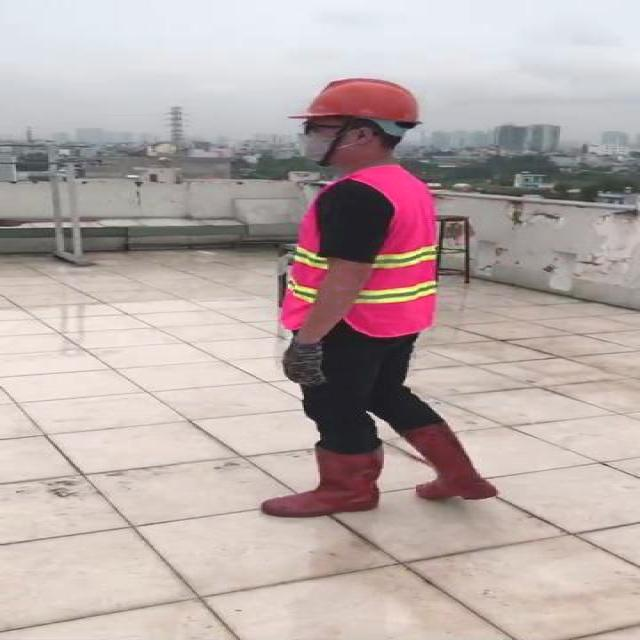boots: (388, 424, 500, 503), (260, 445, 382, 517)
face_mask: (290, 116, 362, 164)
hand_glove: (281, 340, 334, 386)
head_helmet: (300, 74, 422, 126)
person: (238, 69, 508, 522)
vest: (279, 170, 434, 336)
